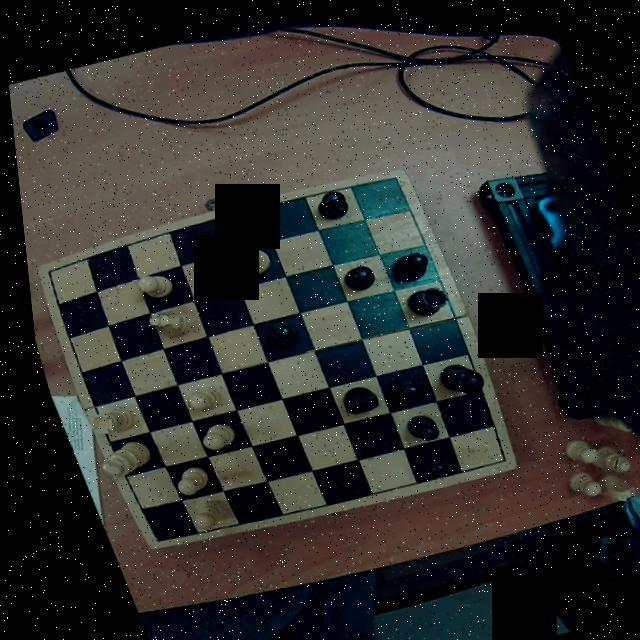chess-table-corners: (374, 162, 406, 192), (130, 524, 164, 550), (478, 436, 508, 465), (29, 262, 57, 288)
